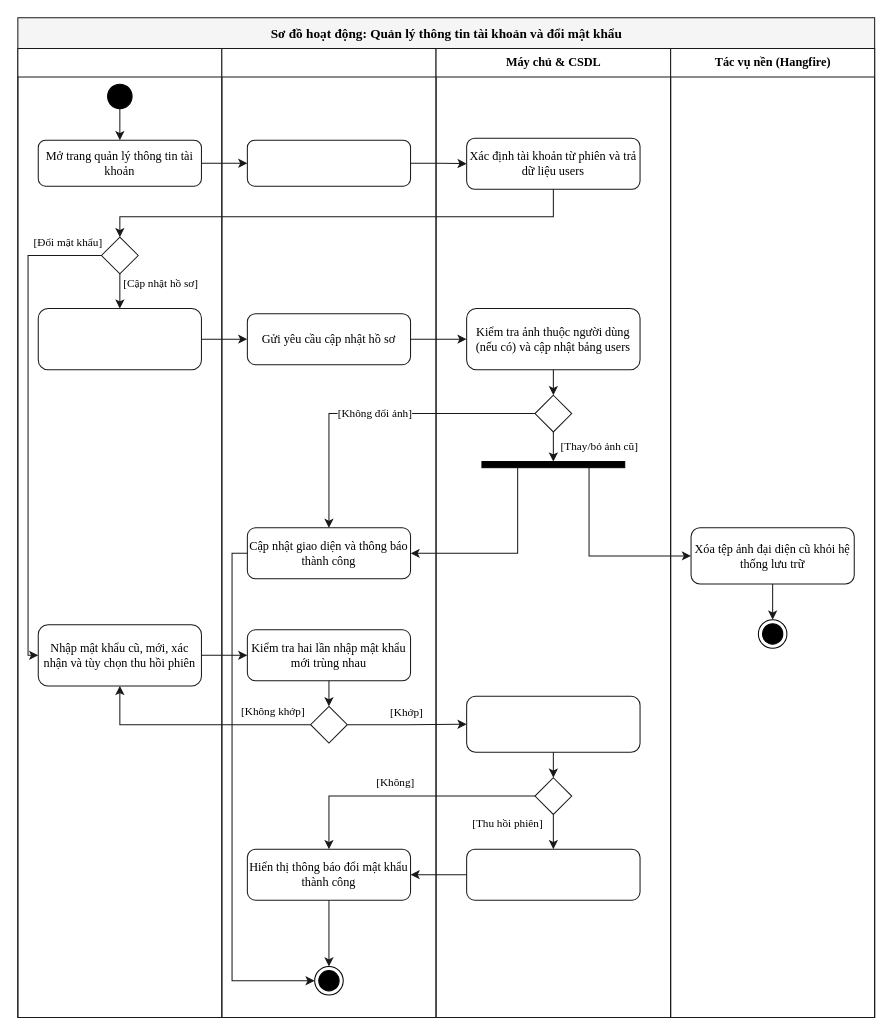
Some shapes in this 893 by 1035 pixel diagram are drawn without their labels. Here are the shapes that lost their labels. From the top down, the box of each, then its label:
(246, 139, 411, 186): Tải và hiển thị thông tin hồ sơ hiện tại
(37, 308, 201, 370): Chỉnh sửa họ tên, SĐT, chọn/cắt hoặc bỏ ảnh đại diện và Lưu
(17, 47, 222, 1017): Người dùng
(221, 47, 436, 1017): Ứng dụng Client
(466, 695, 640, 752): Kiểm tra mật khẩu hiện tại, băm và lưu mật khẩu mới
(466, 848, 640, 900): Thu hồi toàn bộ refresh_tokens chưa thu hồi
